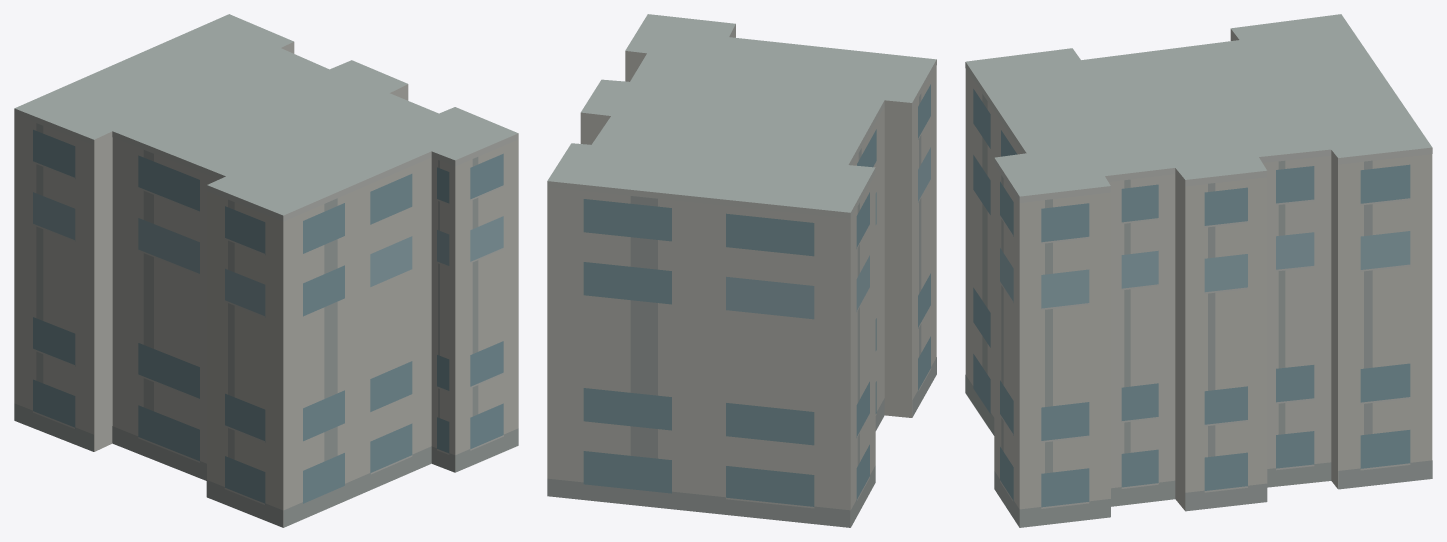
The model's file is survey-upis-32534674.glb.
The picture shows the model from 3 angles, left to right: view 1: azimuth 30°, elevation 25°; view 2: azimuth 150°, elevation 25°; view 3: azimuth 270°, elevation 25°; orthographic projection. The views are drawn at different scales.
Parts seen in each view (by area): view 1: survey-upis-32534674.tmp; view 2: survey-upis-32534674.tmp; view 3: survey-upis-32534674.tmp.
Boxes of the visible parts, x1=… form: survey-upis-32534674.tmp: x1=14, y1=14, x2=518, y2=527; survey-upis-32534674.tmp: x1=547, y1=14, x2=936, y2=527; survey-upis-32534674.tmp: x1=965, y1=14, x2=1432, y2=527.
Size of the model in its own units: 14.9 by 12.6 by 16.11.
